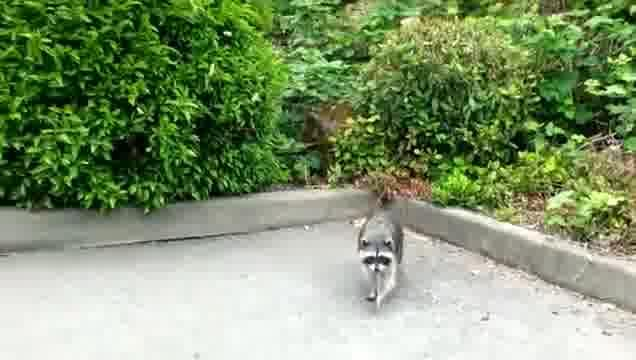raccoon: (356, 207, 406, 310)
